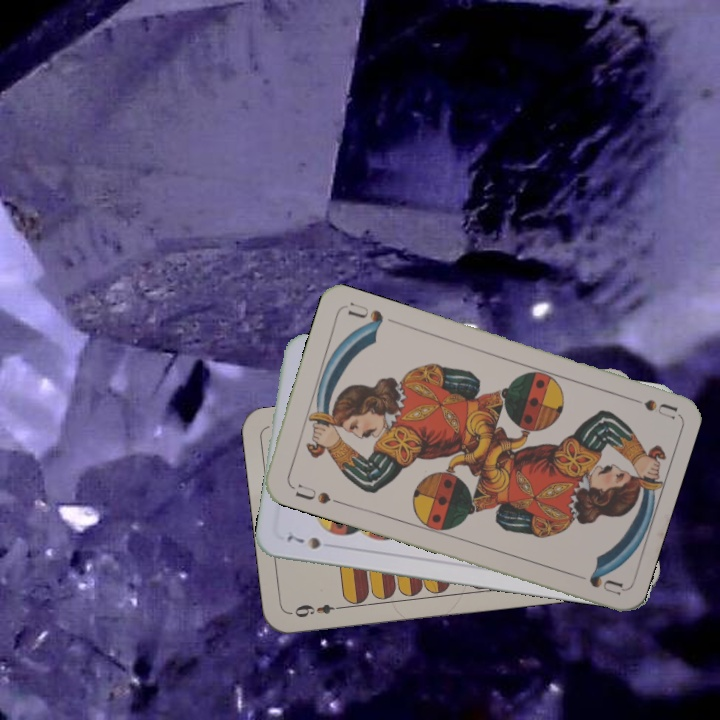E9: (287, 600, 346, 621)
S7: (283, 531, 324, 552)
SU: (619, 391, 678, 422), (291, 479, 344, 507)
